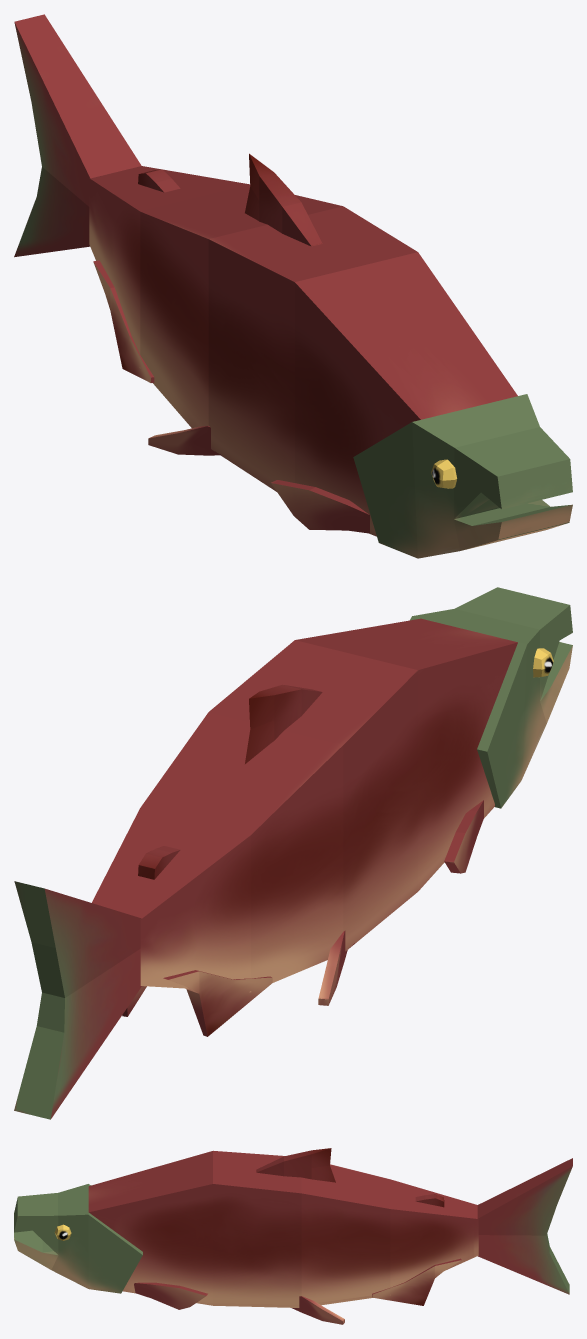
Rendered from slommy.fbx.
The picture shows the model from 3 angles, top to bottom: view 1: azimuth 30°, elevation 25°; view 2: azimuth 150°, elevation 25°; view 3: azimuth 270°, elevation 25°; orthographic projection. The views are drawn at different scales.
Parts seen in each view (by area): view 1: body, head, tail, dorsal fin, pectoral fin, cantsaythiswordinclass fin, pelvic fin; view 2: body, tail, head, cantsaythiswordinclass fin, dorsal fin, pectoral fin, pelvic fin, adipose fin; view 3: body, head, tail, dorsal fin, cantsaythiswordinclass fin, pectoral fin, pelvic fin, adipose fin.
Boxes of the visible parts, <box> form: body: <box>89,166,517,536</box>; head: <box>353,394,572,558</box>; tail: <box>14,14,141,257</box>; dorsal fin: <box>245,153,322,246</box>; pectoral fin: <box>271,480,369,533</box>; cantsaythiswordinclass fin: <box>93,260,154,382</box>; pelvic fin: <box>148,425,219,455</box>; body: <box>92,618,517,992</box>; tail: <box>14,881,141,1119</box>; head: <box>410,587,572,808</box>; cantsaythiswordinclass fin: <box>122,970,272,1036</box>; dorsal fin: <box>245,684,322,763</box>; pectoral fin: <box>444,800,483,873</box>; pelvic fin: <box>318,930,347,1005</box>; adipose fin: <box>138,846,180,879</box>; body: <box>88,1150,478,1307</box>; head: <box>14,1184,142,1293</box>; tail: <box>477,1158,572,1294</box>; dorsal fin: <box>256,1148,335,1182</box>; cantsaythiswordinclass fin: <box>372,1258,461,1305</box>; pectoral fin: <box>134,1282,207,1309</box>; pelvic fin: <box>292,1296,344,1324</box>; adipose fin: <box>415,1194,444,1207</box>.
Bounding box in the file's own units: 79.67 × 115 × 383.
9 materials, 9 textured.
